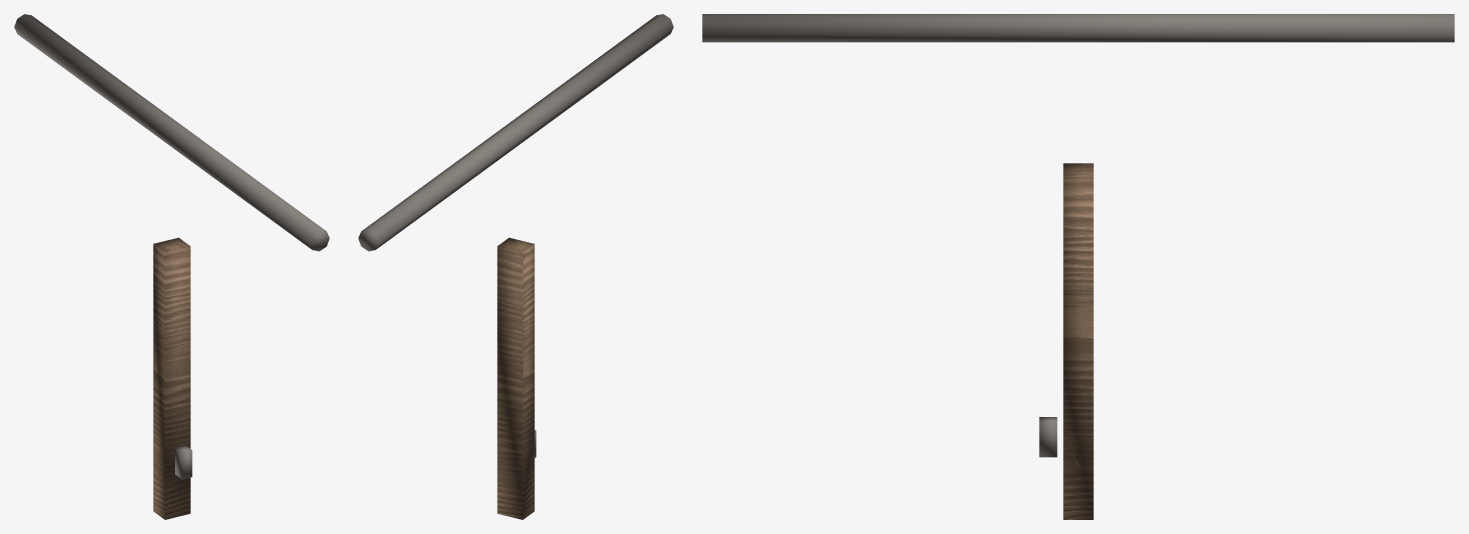
The model's file is heavy_crossbow.glb.
The picture shows the model from 3 angles, left to right: view 1: azimuth 30°, elevation 25°; view 2: azimuth 150°, elevation 25°; view 3: azimuth 270°, elevation 25°; orthographic projection. The views are drawn at different scales.
Parts seen in each view (by area): view 1: heavy_crossbow; view 2: heavy_crossbow; view 3: heavy_crossbow.
Part boxes in pixels (x1,y1,x2,y2): heavy_crossbow: [14, 14, 329, 519]; heavy_crossbow: [358, 14, 673, 519]; heavy_crossbow: [702, 14, 1454, 519].
Bounding box in the file's own units: 0.025 × 0.365 × 0.5.
2 materials, 1 textured.
